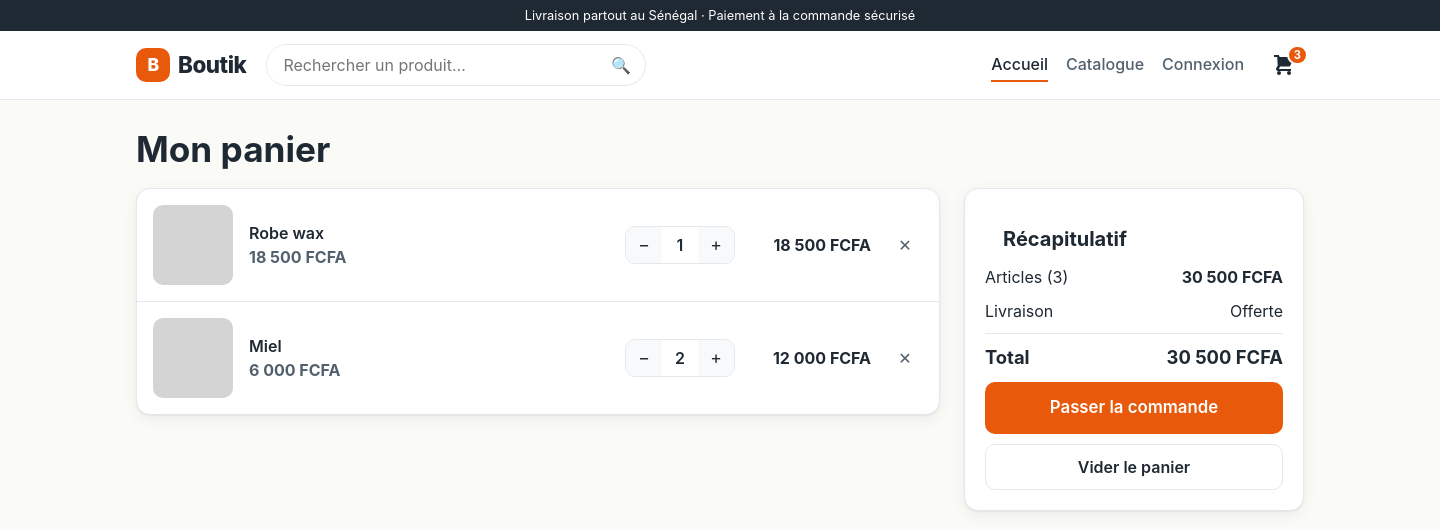
Test: Panier › restaure le panier depuis localStorage, change les quantités et calcule le total
This screenshot has width=1440, height=530.
Expected: the text with test id "cart-count" reads "3", [1294,48,1301,62]
Expected: the text "30 500 FCFA" in the row of "Articles (" is shown, [1182,267,1283,287]
Click the button named "augmenter robe wax" at (716, 245), box [698,227,734,263]
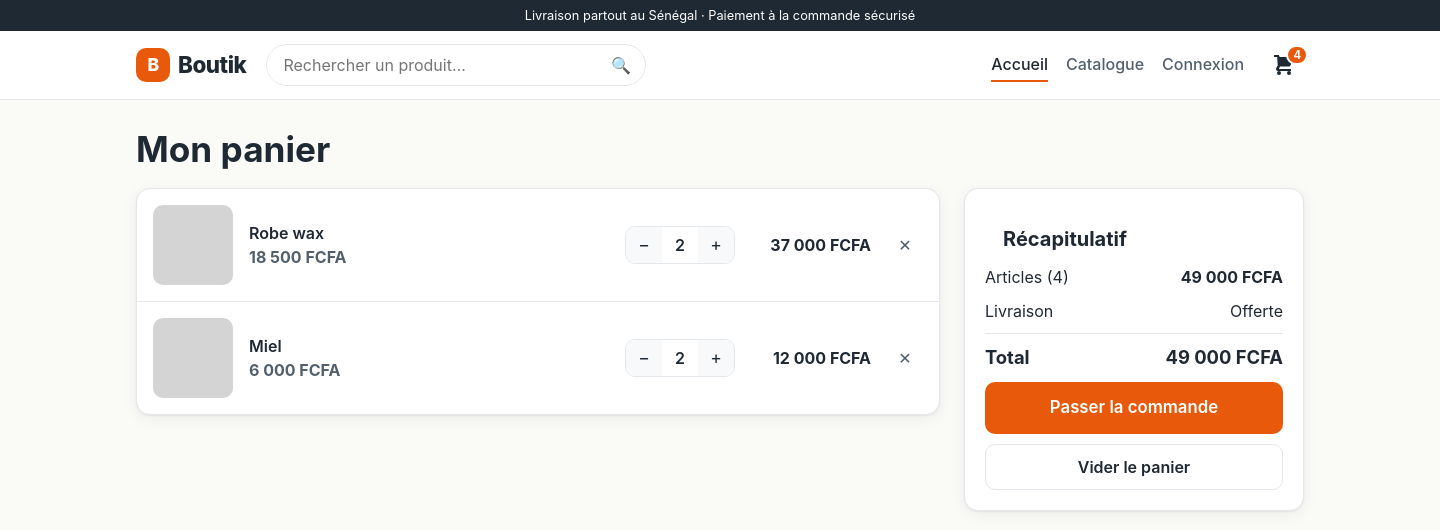
Result: the text "49 000 FCFA" in the row of "Articles (" is shown at [1181,267,1283,287]
Click the button named "retirer miel" at (905, 358), box [887,340,923,376]
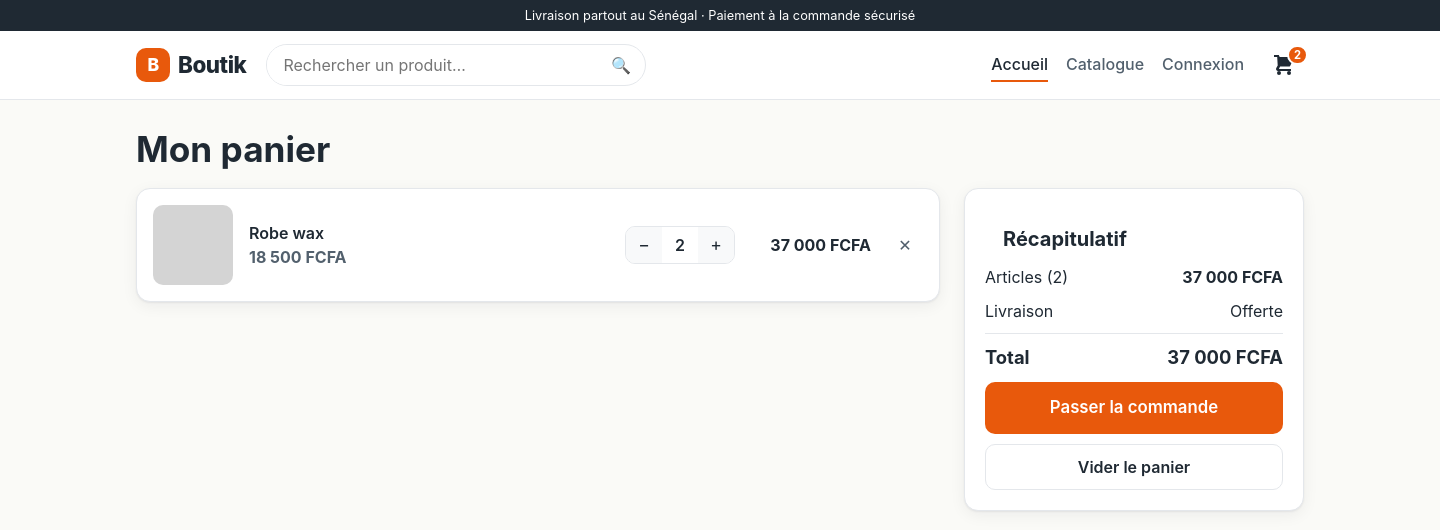
Result: the link "Miel" is gone
Result: the text with test id "cart-count" reads "2" at [1294,48,1301,62]
Click the button "Vider le panier" at (1134, 467), box [985,444,1283,490]
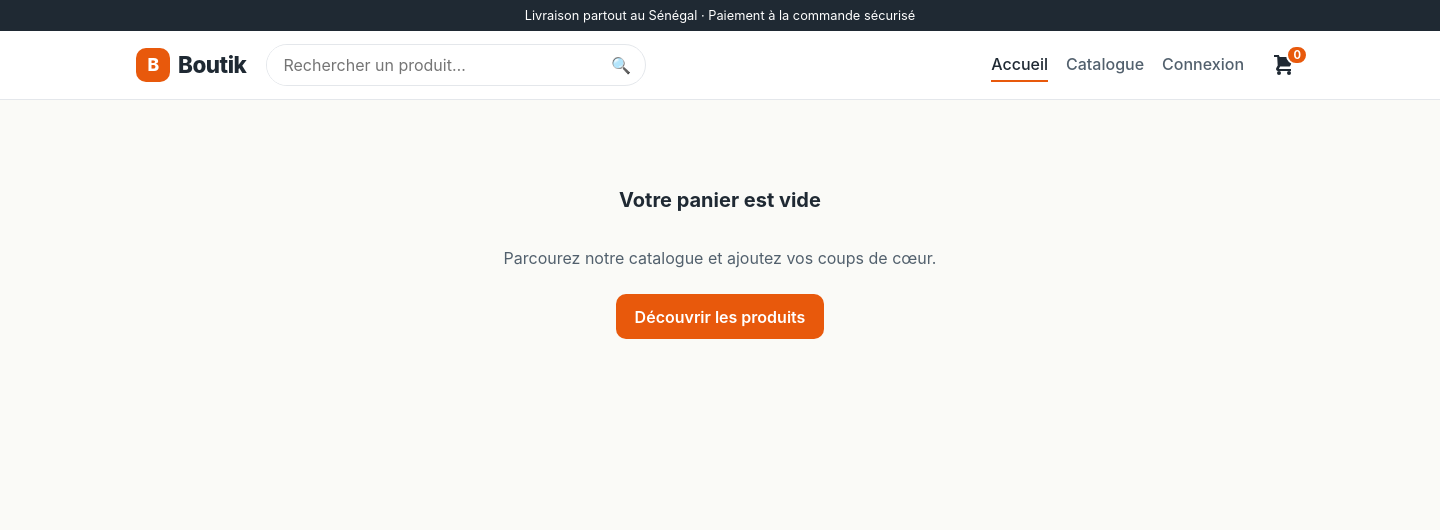
Result: the heading "Votre panier est vide" is shown at [619,188,821,212]
